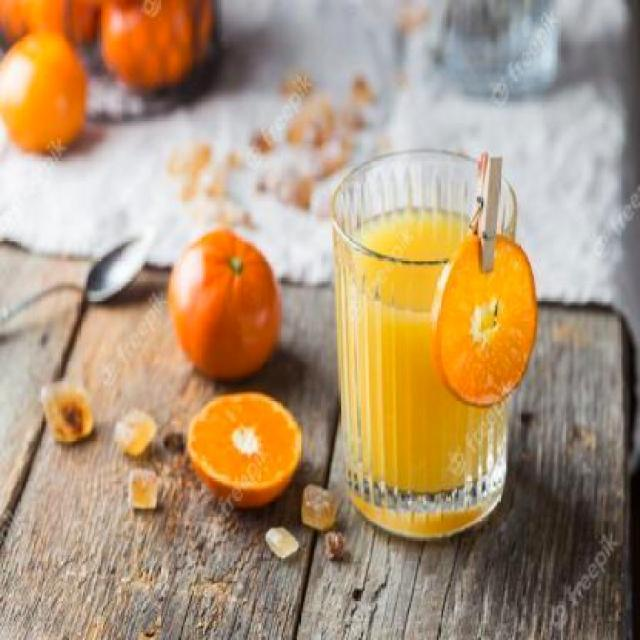Jeruk Sudah Matang: (171, 227, 284, 384), (0, 28, 89, 157)
